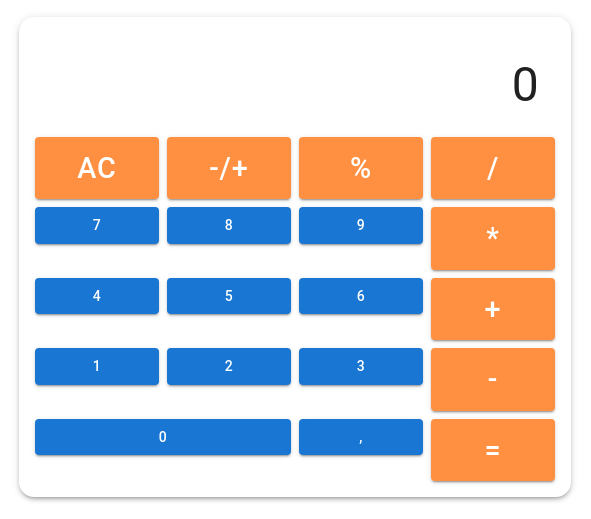
Scenario: Calculator App tests › Does subsrtaction corectly
Click the button "3" at (361, 366), box [299,348,423,385]
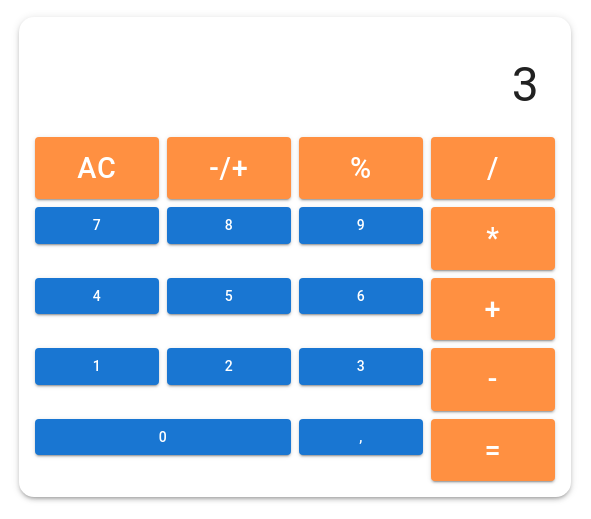
Click the button "0" at (163, 437), box [35,419,291,455]
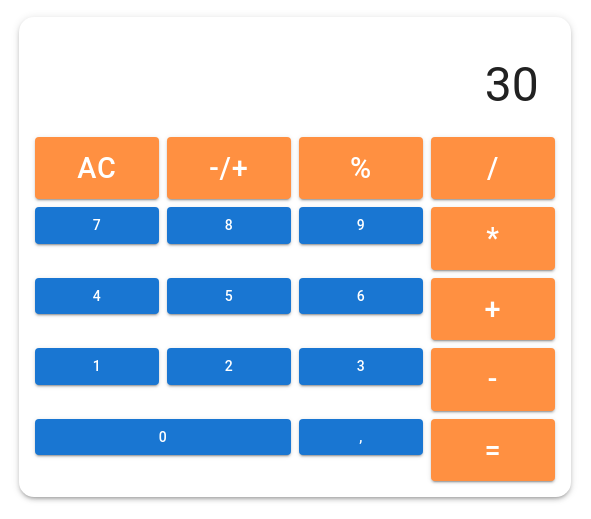
Click the button "-" at (493, 379), box [431,348,555,411]
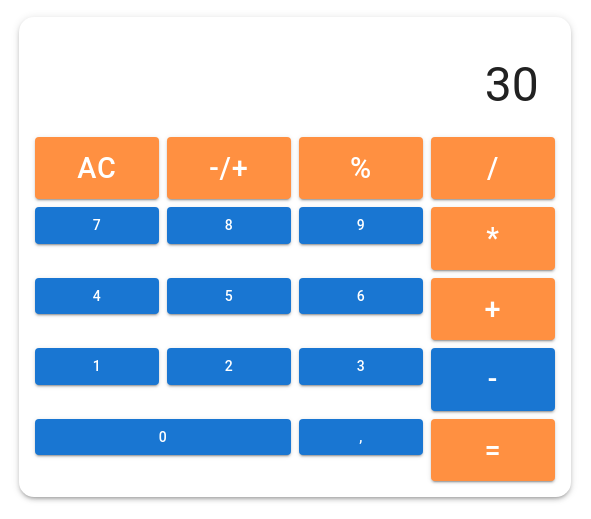
Click the button "6" at (361, 296), box [299,278,423,314]
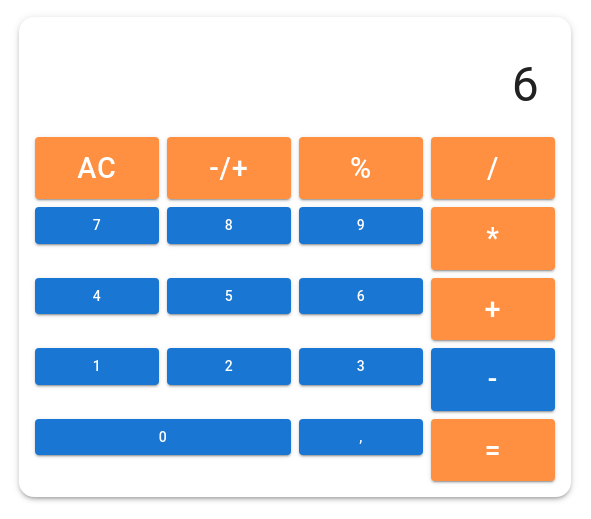
Click the button "=" at (493, 450), box [431,419,555,481]
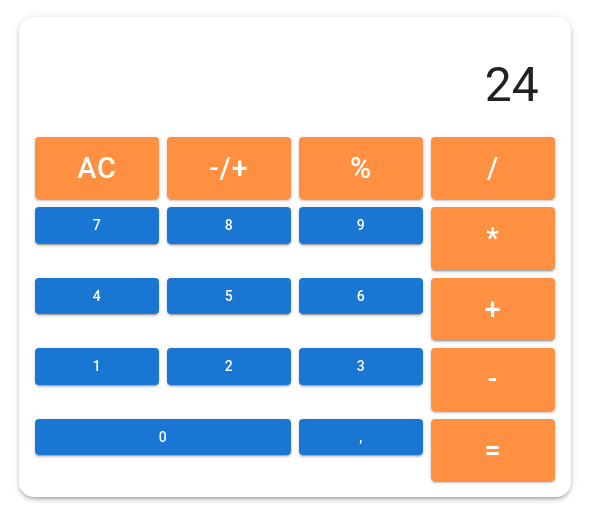
Expected: the text with test id "output" reads "24", [485,56,539,113]
